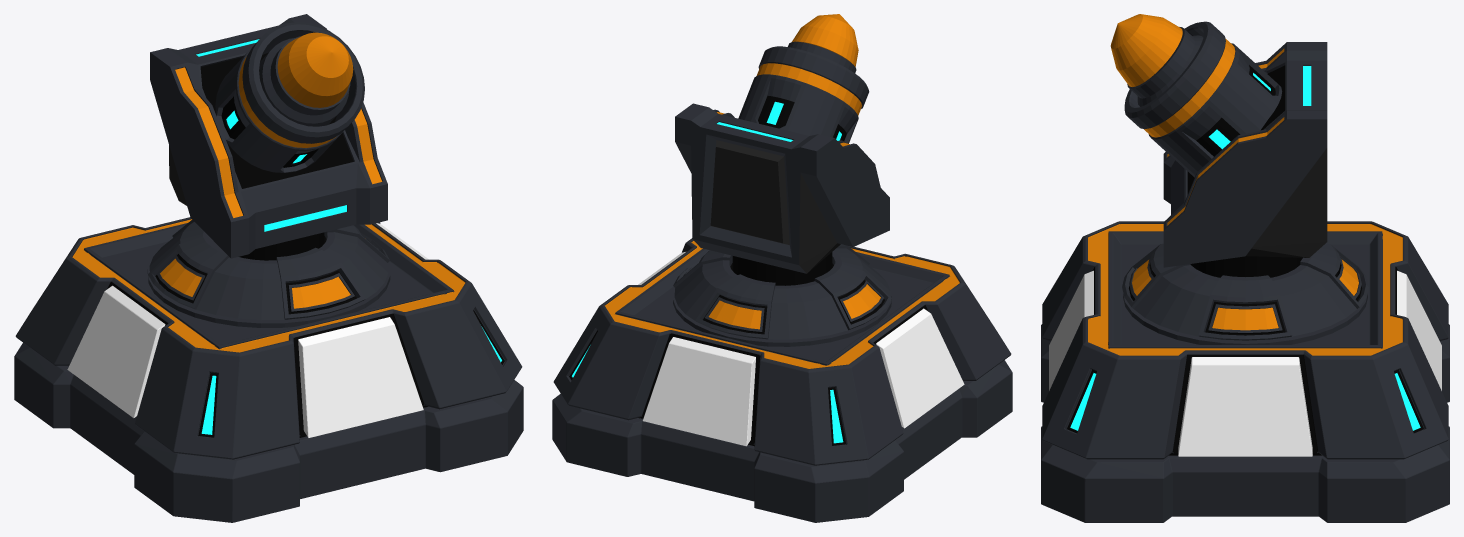
File: SM_Mortar_Turret.fbx
The picture shows the model from 3 angles, left to right: view 1: azimuth 30°, elevation 25°; view 2: azimuth 150°, elevation 25°; view 3: azimuth 270°, elevation 25°; orthographic projection. The views are drawn at different scales.
Parts seen in each view (by area): view 1: SM_Mortar_Turret_Base, SM_Mortar_Turret_Rotating_Head, SM_Mortar_Shell; view 2: SM_Mortar_Turret_Base, SM_Mortar_Turret_Rotating_Head, SM_Mortar_Shell; view 3: SM_Mortar_Turret_Base, SM_Mortar_Turret_Rotating_Head, SM_Mortar_Shell.
Part boxes in pixels (x1,y1,x2,y2): SM_Mortar_Turret_Base: (14, 217, 523, 522); SM_Mortar_Turret_Rotating_Head: (147, 14, 390, 327); SM_Mortar_Shell: (259, 32, 353, 126); SM_Mortar_Turret_Base: (552, 238, 1012, 522); SM_Mortar_Turret_Rotating_Head: (673, 46, 891, 346); SM_Mortar_Shell: (788, 14, 858, 73); SM_Mortar_Turret_Base: (1041, 221, 1449, 522); SM_Mortar_Turret_Rotating_Head: (1122, 21, 1368, 344); SM_Mortar_Shell: (1110, 14, 1203, 106).
Bounding box in the file's own units: 100 × 113 × 100.
